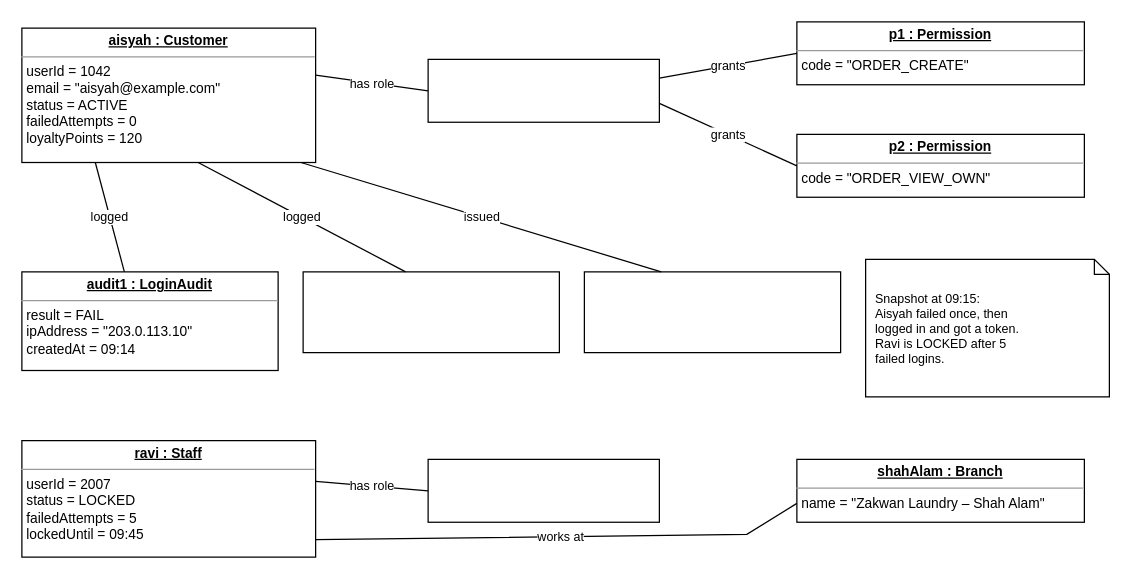
Image size: 1131x580. Some labels were removed from this diagram. Here are the shapes that lost their labels. From the top down, the centre of each, then its label:
point 543,90: customerRole : Role name = "CUSTOMER"
point 430,312: audit2 : LoginAudit result = SUCCESS createdAt = 09:15
point 712,312: token1 : AccessToken roles = [CUSTOMER] expiresAt = 09:30
point 543,490: staffRole : Role name = "STAFF"
